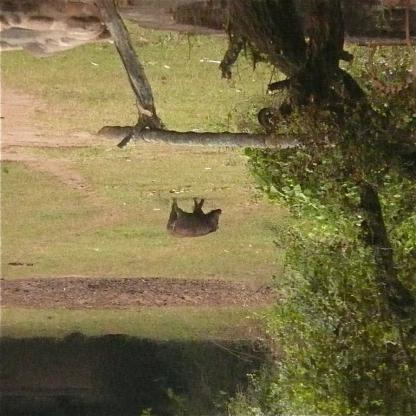boar: (166, 197, 223, 239)
